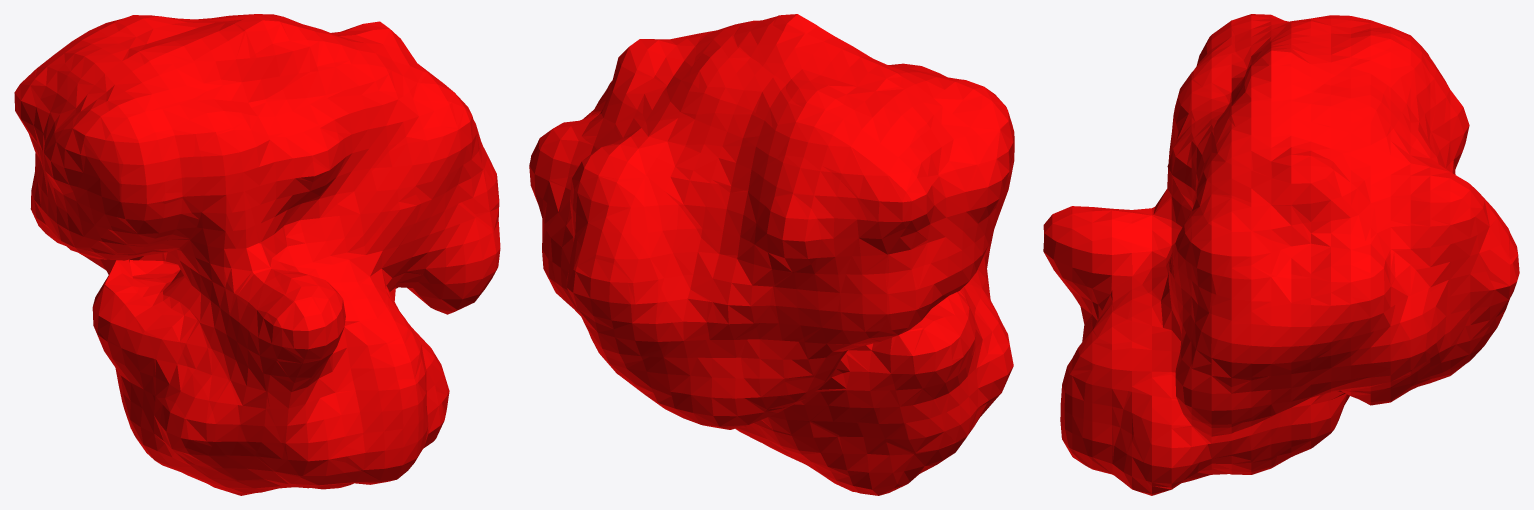
The model's file is folC_coarse.dae.
The picture shows the model from 3 angles, left to right: view 1: azimuth 30°, elevation 25°; view 2: azimuth 150°, elevation 25°; view 3: azimuth 270°, elevation 25°; orthographic projection. The views are drawn at different scales.
Visible parts, largest first — view 1: folC; view 2: folC; view 3: folC.
Boxes of the visible parts, <box> form: folC: <box>14,14,500,495</box>; folC: <box>529,14,1014,495</box>; folC: <box>1043,14,1519,495</box>.
Bounding box in the file's own units: 61.14 × 61.38 × 60.21.
